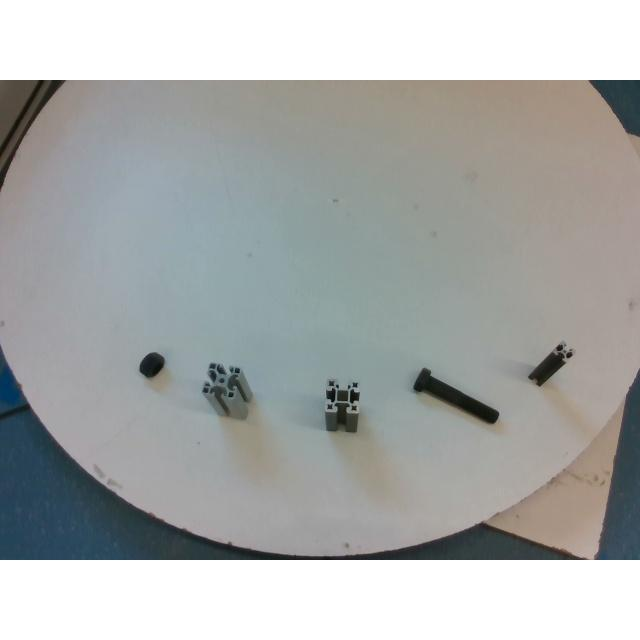F20_20_B: (529, 342, 573, 386)
M20: (140, 353, 164, 377)
M20_100: (413, 367, 499, 423)
S40_40_B: (323, 376, 359, 432)
S40_40_G: (202, 362, 250, 418)
